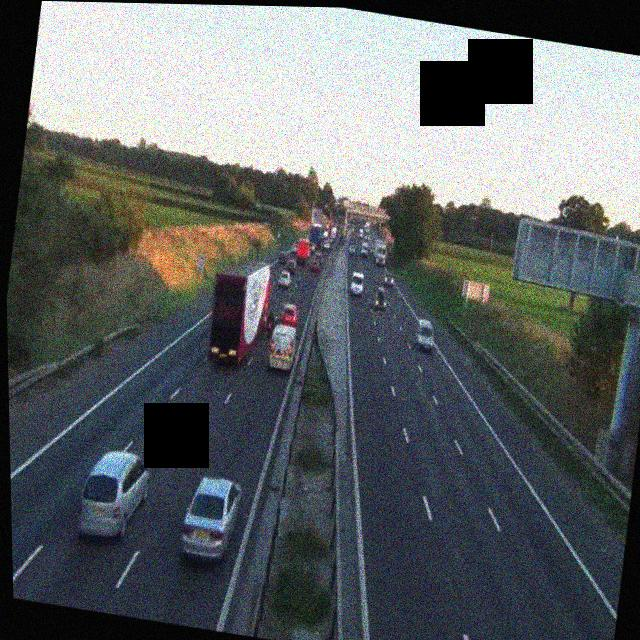car: (74, 444, 154, 544), (177, 472, 244, 566), (412, 317, 438, 354), (278, 303, 299, 328), (372, 284, 390, 310), (349, 274, 366, 296), (277, 268, 293, 288), (384, 272, 396, 288), (276, 251, 288, 266), (309, 258, 321, 272), (351, 245, 362, 258), (349, 244, 357, 255)
truck: (203, 260, 277, 369), (266, 322, 299, 373), (293, 236, 311, 264), (372, 240, 389, 267)
